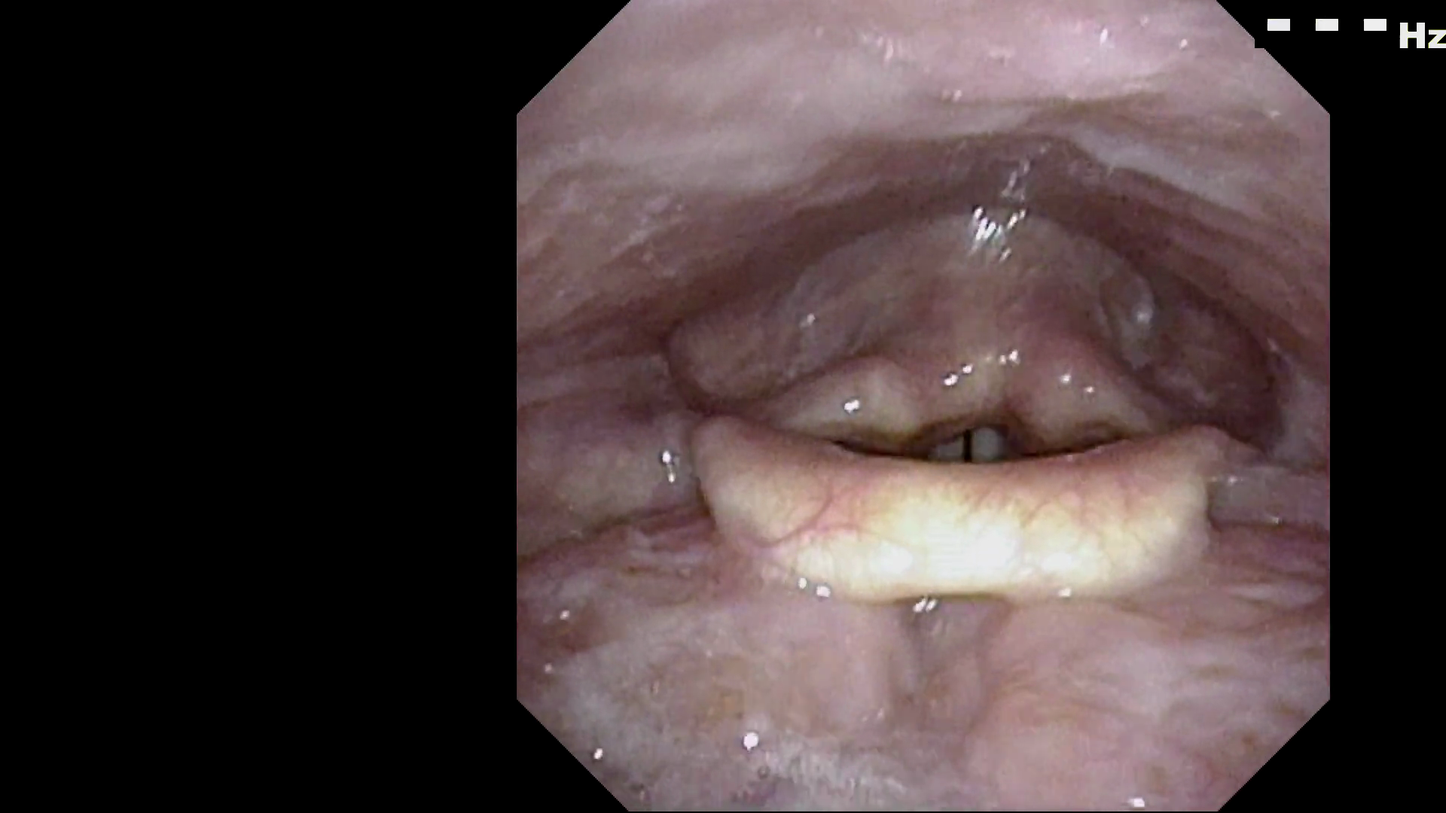epiglottis: (686, 367, 1258, 620)
trachea: (912, 356, 1052, 502)
